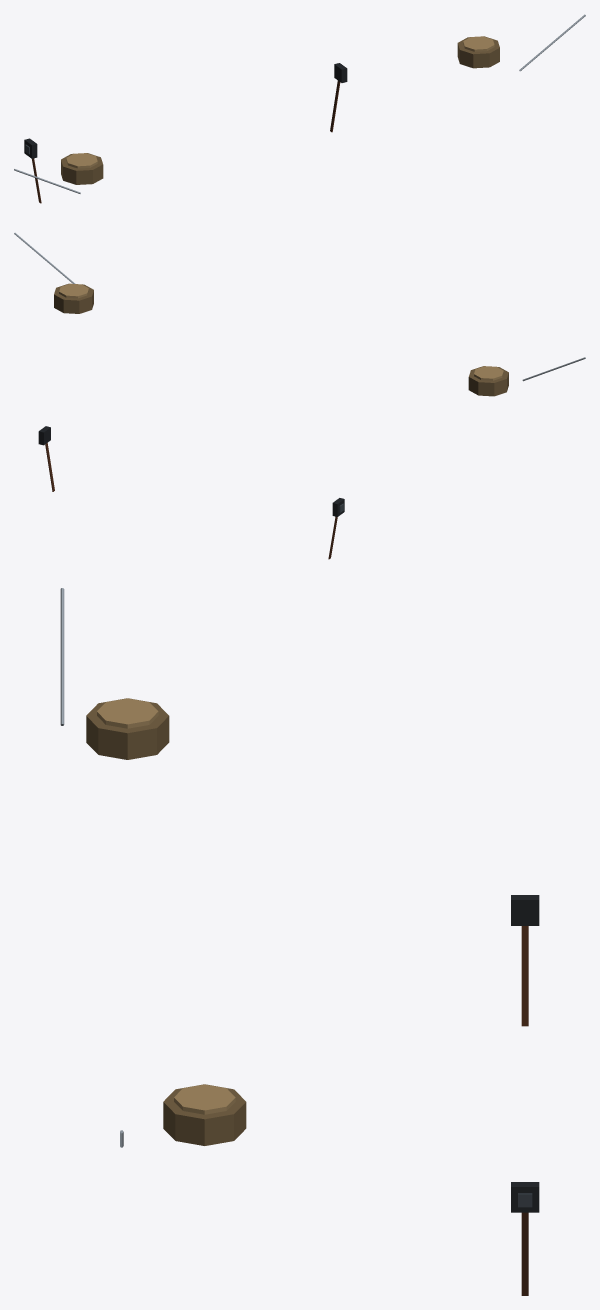
File: env_fallow_bow_trim.fbx
3 renders of one model, top to bottom at view 1: azimuth 30°, elevation 25°; view 2: azimuth 150°, elevation 25°; view 3: azimuth 270°, elevation 25°, orthographic. The views are drawn at different scales.
Visible parts, largest first — view 1: env_fallow_bow_trim; view 2: env_fallow_bow_trim; view 3: env_fallow_bow_trim.
Boxes of the visible parts, x1=… form: env_fallow_bow_trim: x1=14, y1=14, x2=585, y2=203; env_fallow_bow_trim: x1=14, y1=232, x2=585, y2=559; env_fallow_bow_trim: x1=60, y1=588, x2=539, y2=1295.
Size of the model in its own units: 10838 by 2806 by 4035.
